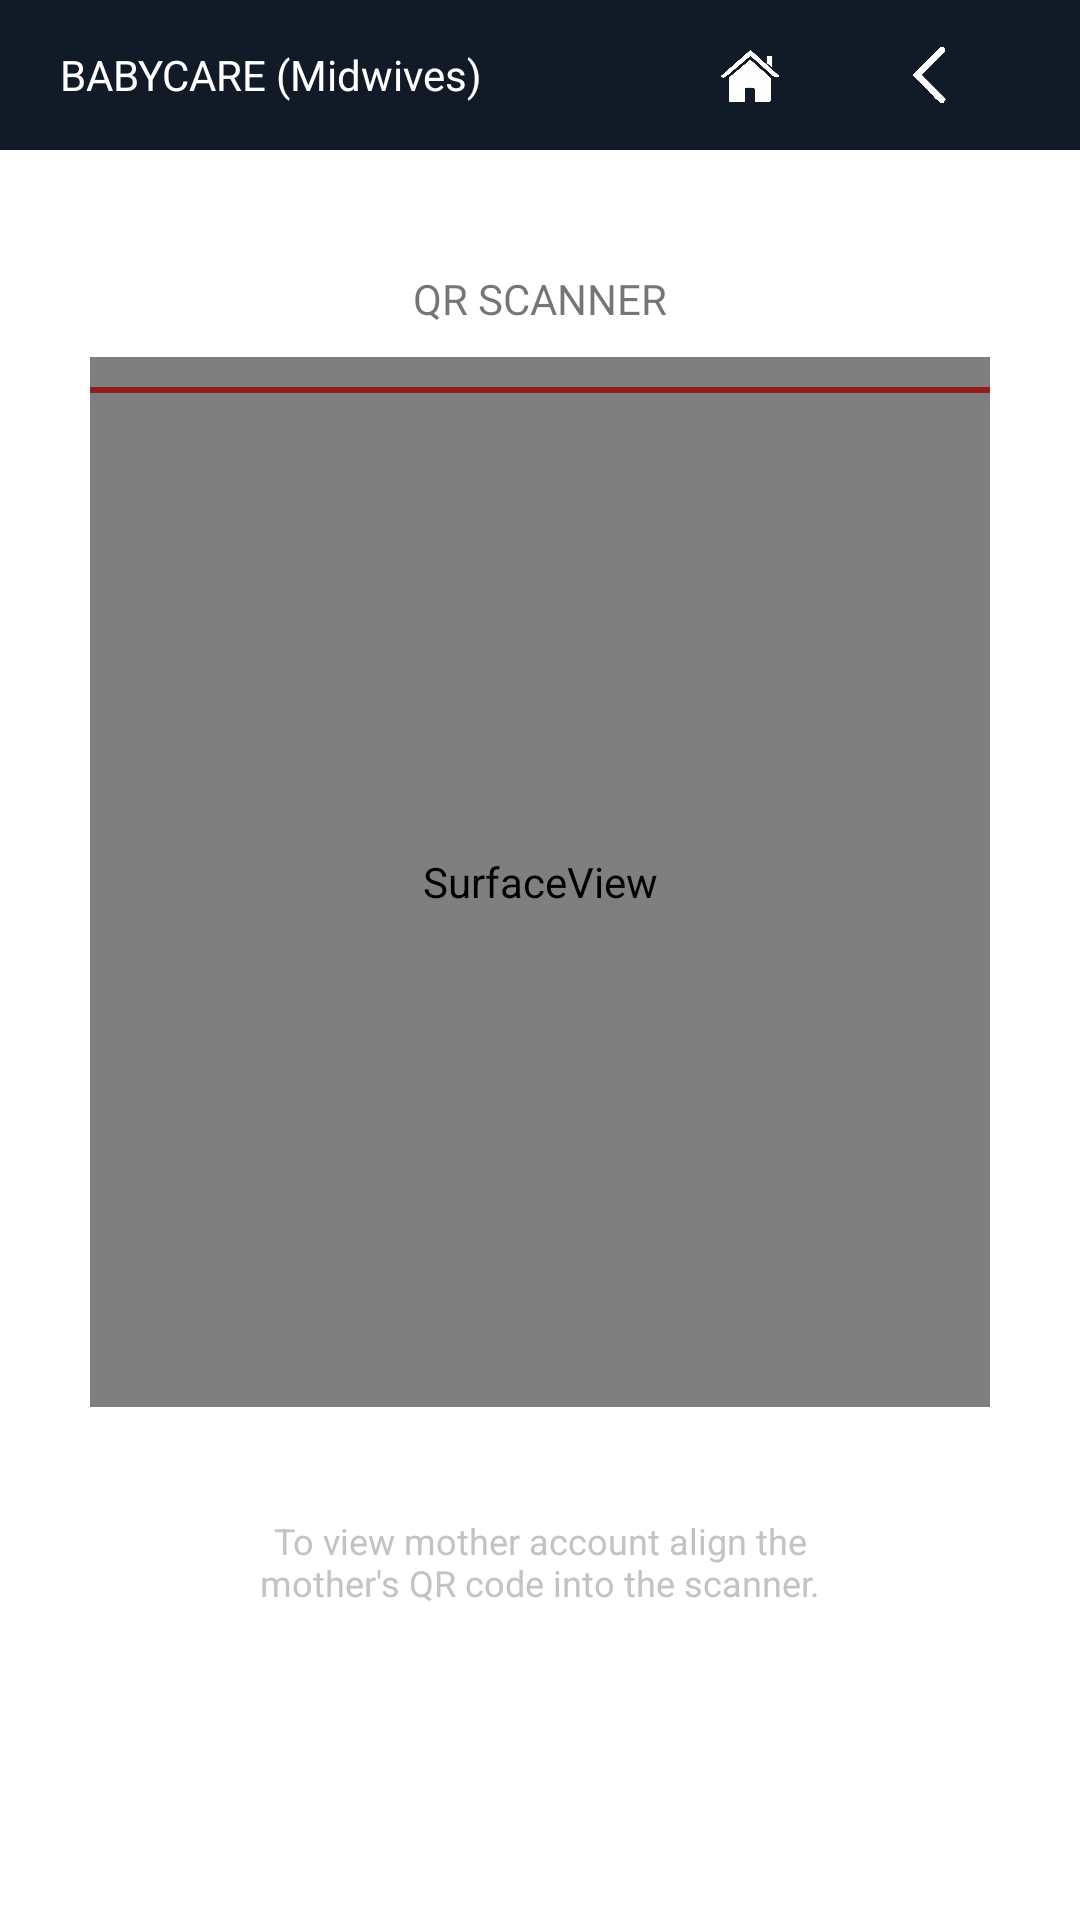

Named icons in this screenshot (1080×1920) and their centers, [x,y]:
back: [929,75]
home: [750,76]
